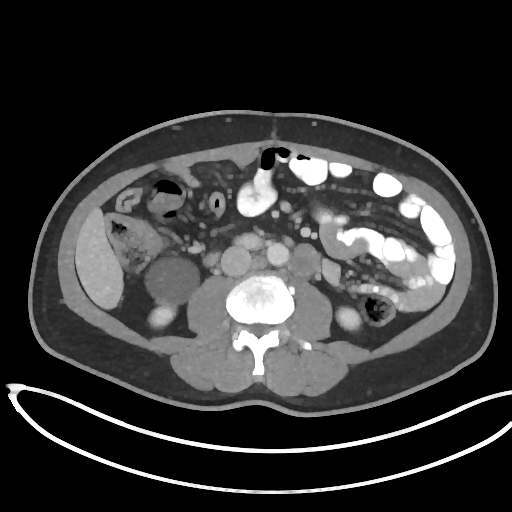Lesion: (143, 251, 202, 307)
